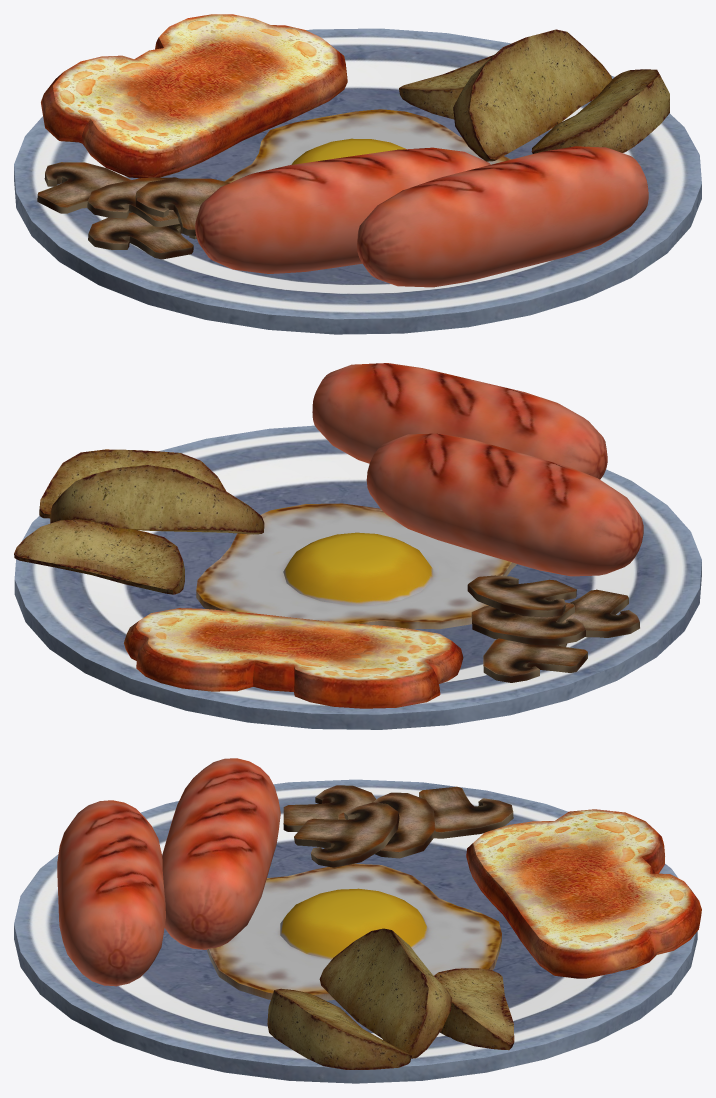
File: meal_plate.gltf
3 renders of one model, top to bottom at view 1: azimuth 30°, elevation 25°; view 2: azimuth 150°, elevation 25°; view 3: azimuth 270°, elevation 25°, orthographic.
Parts seen in each view (by area): view 1: Circle, Plane.001, sausage_low.001, Circle.002, sausage_low, Circle.004, fried_eggs_low; view 2: Circle, fried_eggs_low, sausage_low, Plane.001, Circle.002, sausage_low.001, Circle.004; view 3: Circle, Plane.001, fried_eggs_low, Circle.002, sausage_low, sausage_low.001, Circle.004.
Part boxes in pixels (left/top/right/bottom): Circle: left=14, top=28, right=701, bottom=334; Plane.001: left=41, top=14, right=347, bottom=178; sausage_low.001: left=357, top=146, right=648, bottom=287; Circle.002: left=399, top=29, right=669, bottom=161; sausage_low: left=195, top=147, right=490, bottom=273; Circle.004: left=37, top=162, right=230, bottom=259; fried_eggs_low: left=225, top=109, right=510, bottom=182; Circle: left=14, top=425, right=701, bottom=729; fried_eggs_low: left=196, top=503, right=516, bottom=629; sausage_low: left=366, top=433, right=643, bottom=576; Plane.001: left=124, top=608, right=463, bottom=708; Circle.002: left=14, top=449, right=264, bottom=594; sausage_low.001: left=312, top=363, right=607, bottom=479; Circle.004: left=467, top=575, right=639, bottom=682; Circle: left=14, top=779, right=697, bottom=1083; Plane.001: left=466, top=809, right=701, bottom=978; fried_eggs_low: left=207, top=863, right=501, bottom=1000; Circle.002: left=267, top=928, right=514, bottom=1069; sausage_low: left=162, top=758, right=280, bottom=949; sausage_low.001: left=57, top=800, right=165, bottom=986; Circle.004: left=283, top=785, right=513, bottom=867.
Bounding box in the file's own units: 0.6792 × 0.1562 × 0.678.
Materials: 6 (6 with a texture image).
